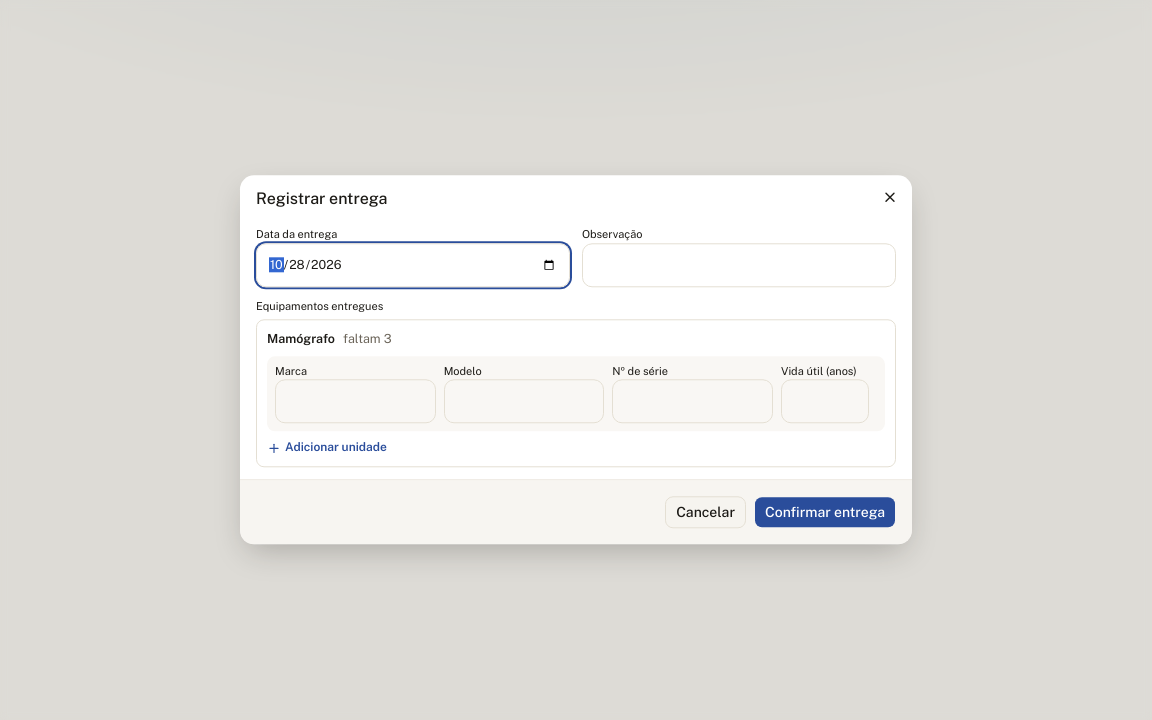
it: form de registrar entrega › recusa número de série repetido entre as unidades
The width and height of the screenshot is (1152, 720).
Click the button "Adicionar unidade": (327, 448) [267, 440, 387, 457]
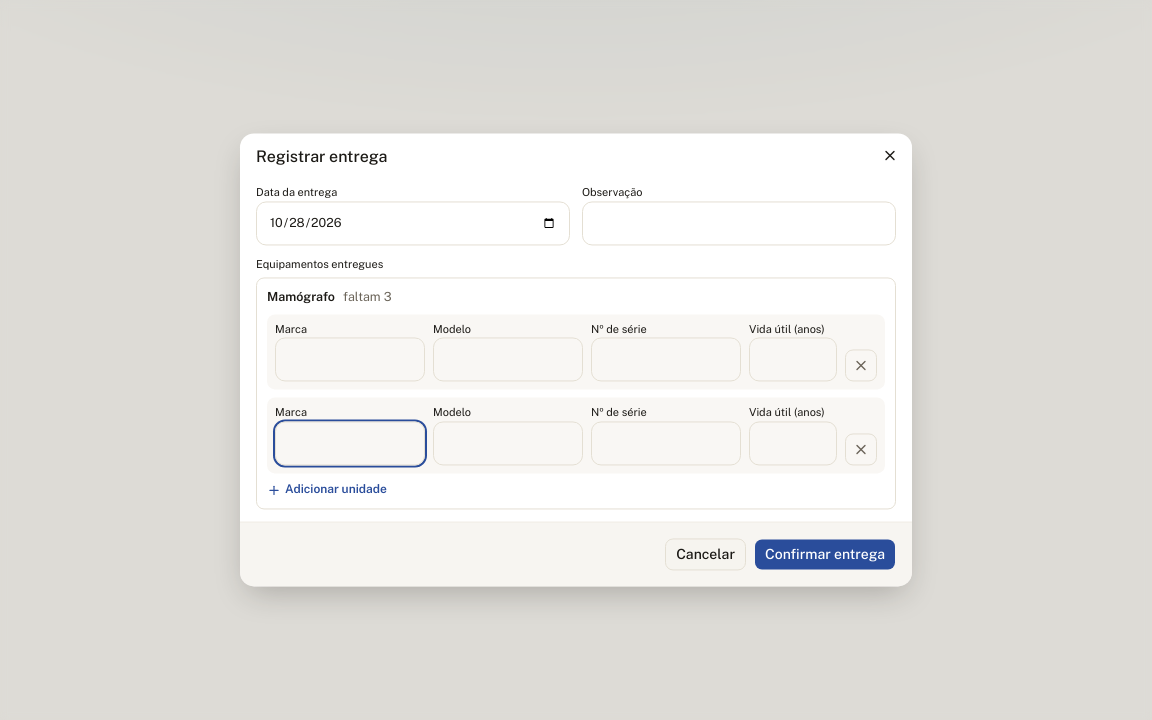
In the 1st field labelled "Nº de série": (666, 360) [591, 338, 741, 382], type "IGUAL"
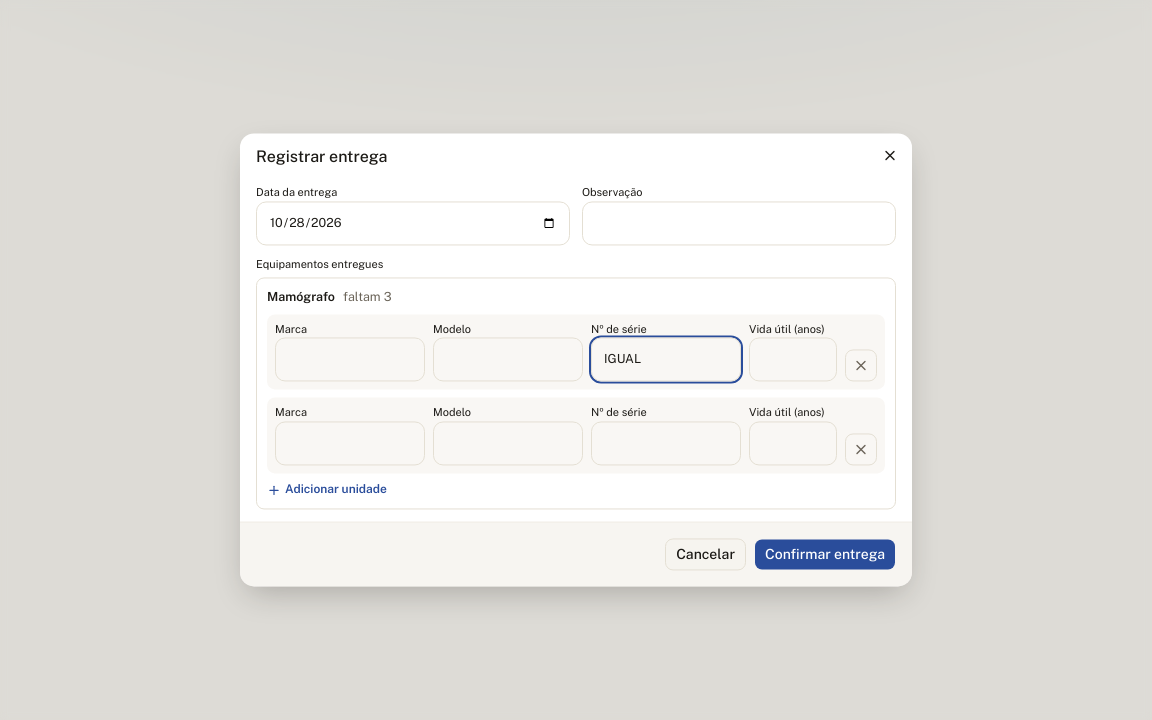
In the 2nd field labelled "Nº de série": (666, 443) [591, 421, 741, 465], type "IGUAL"
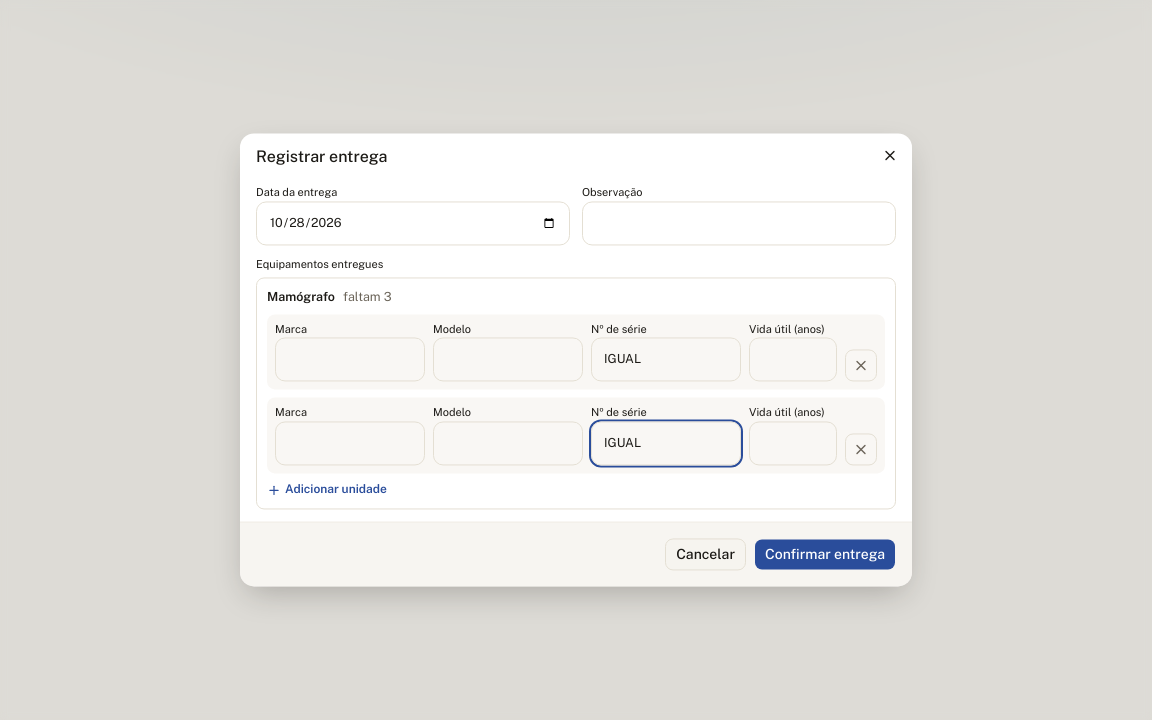
Click the button "Confirmar entrega": (825, 554) [754, 538, 896, 570]
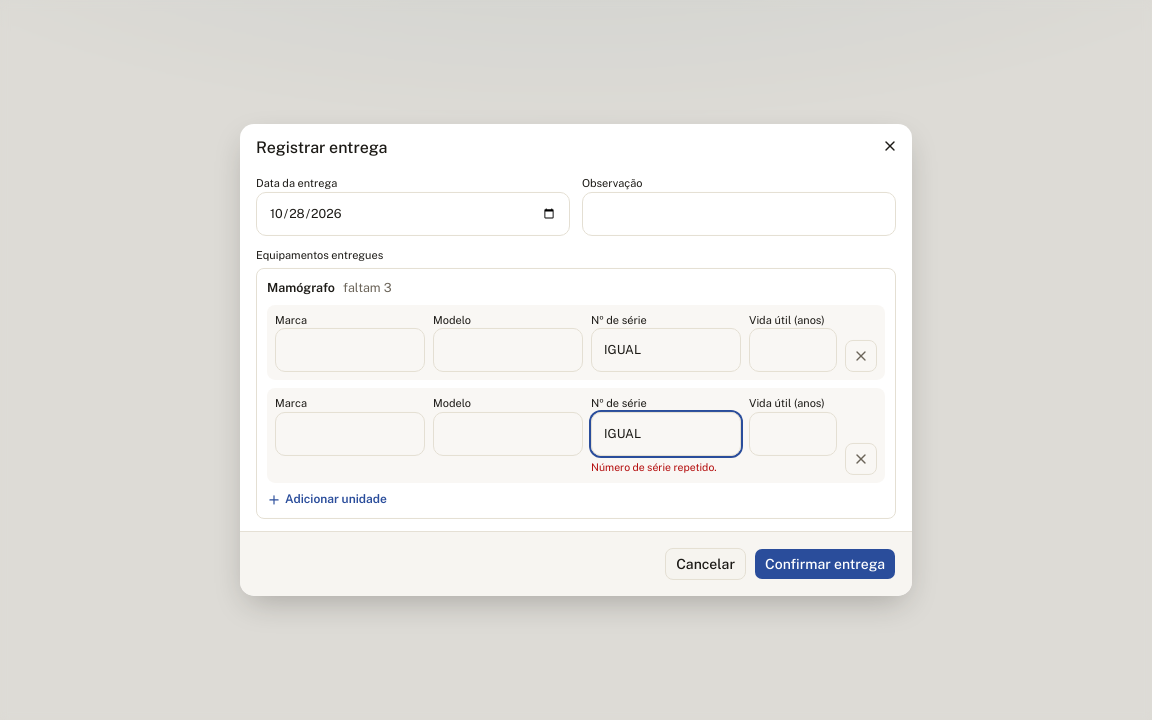
Now the text "Número de série repetido." is shown, box [591, 461, 717, 473]
